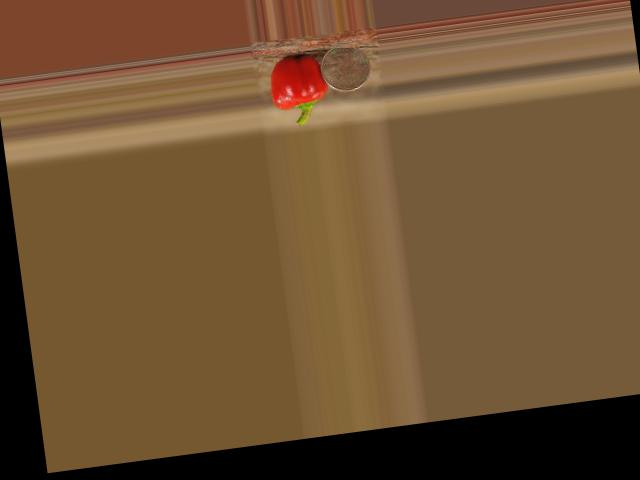bell_pepper: (266, 50, 329, 128)
